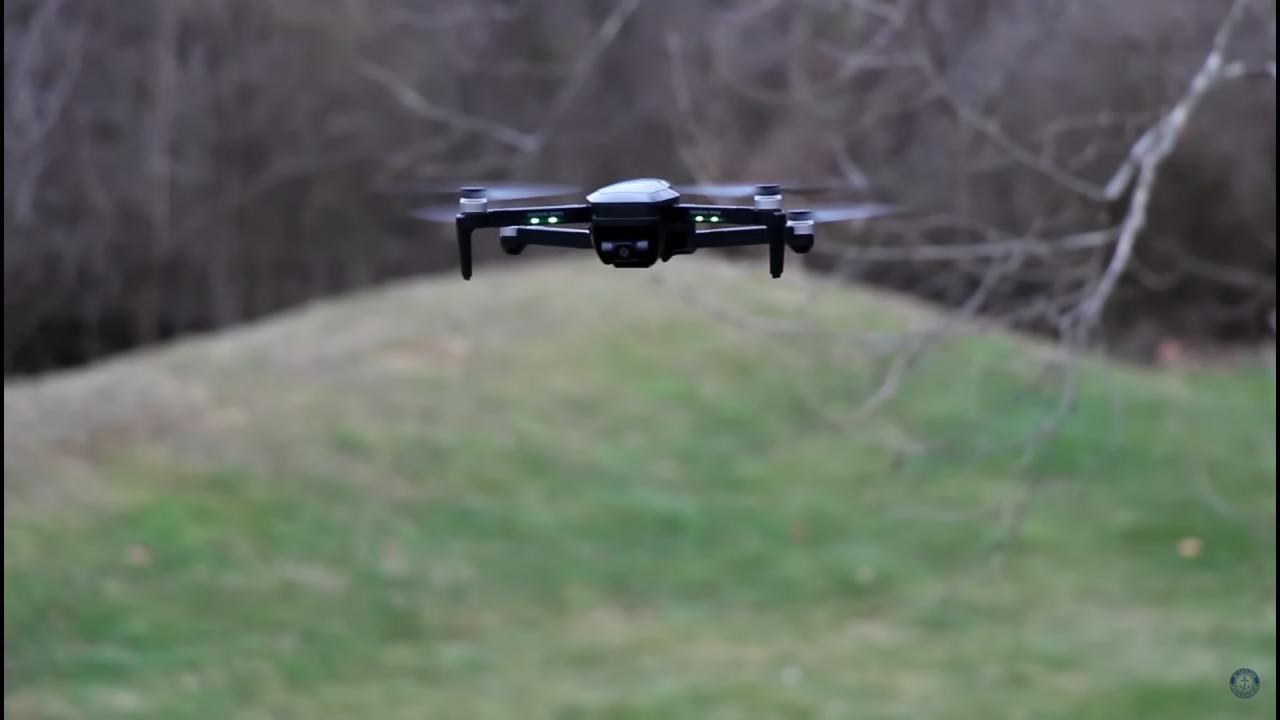Drone: (359, 148, 928, 299)
